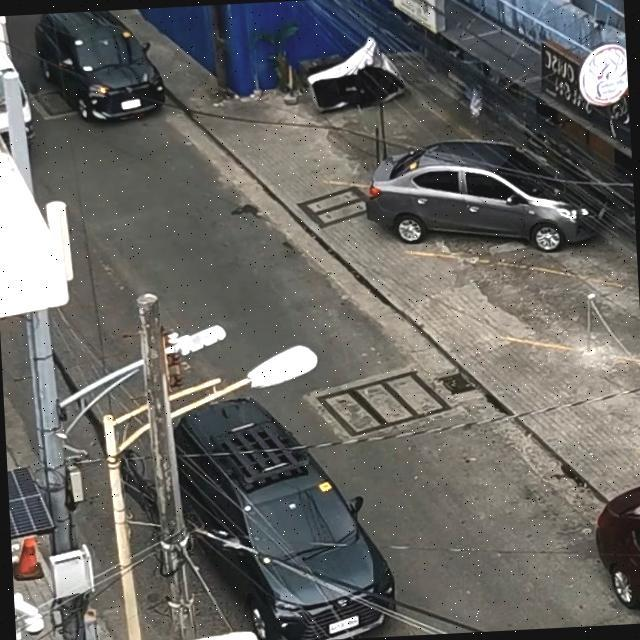Truck: (0, 15, 38, 154)
